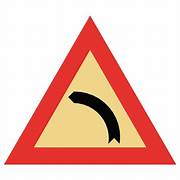left: (6, 18, 177, 167)
